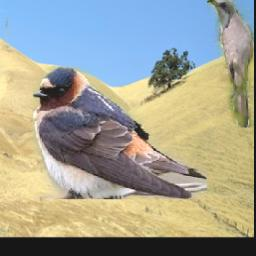Cuckoo: (206, 0, 253, 128)
Swallow: (32, 67, 206, 200)
